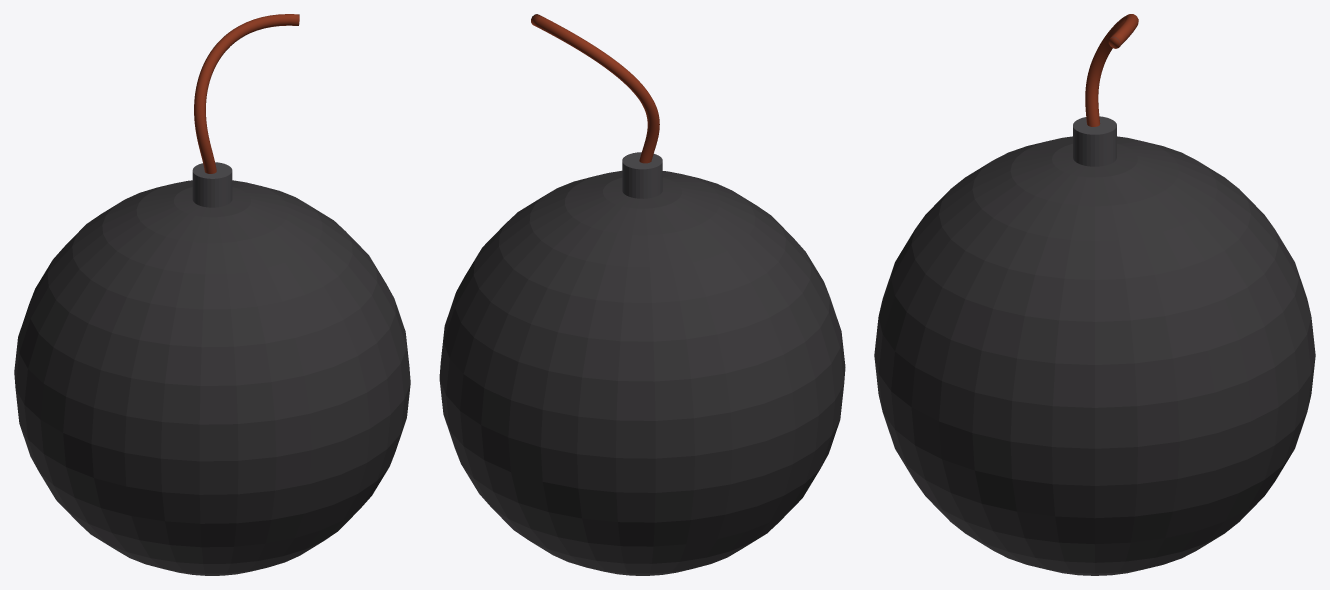
File: bomb.obj
3 views of the same model, side by side, from view 1: azimuth 30°, elevation 25°; view 2: azimuth 150°, elevation 25°; view 3: azimuth 270°, elevation 25° (orthographic). The views are drawn at different scales.
Visible parts, largest first — view 1: Sphere; view 2: Sphere; view 3: Sphere.
Part boxes in pixels (left/top/right/bottom): Sphere: left=14, top=14, right=410, bottom=575; Sphere: left=439, top=14, right=845, bottom=575; Sphere: left=874, top=14, right=1315, bottom=575.
Size of the model in its own units: 2 by 2.85 by 2.
1 material, 1 textured.
